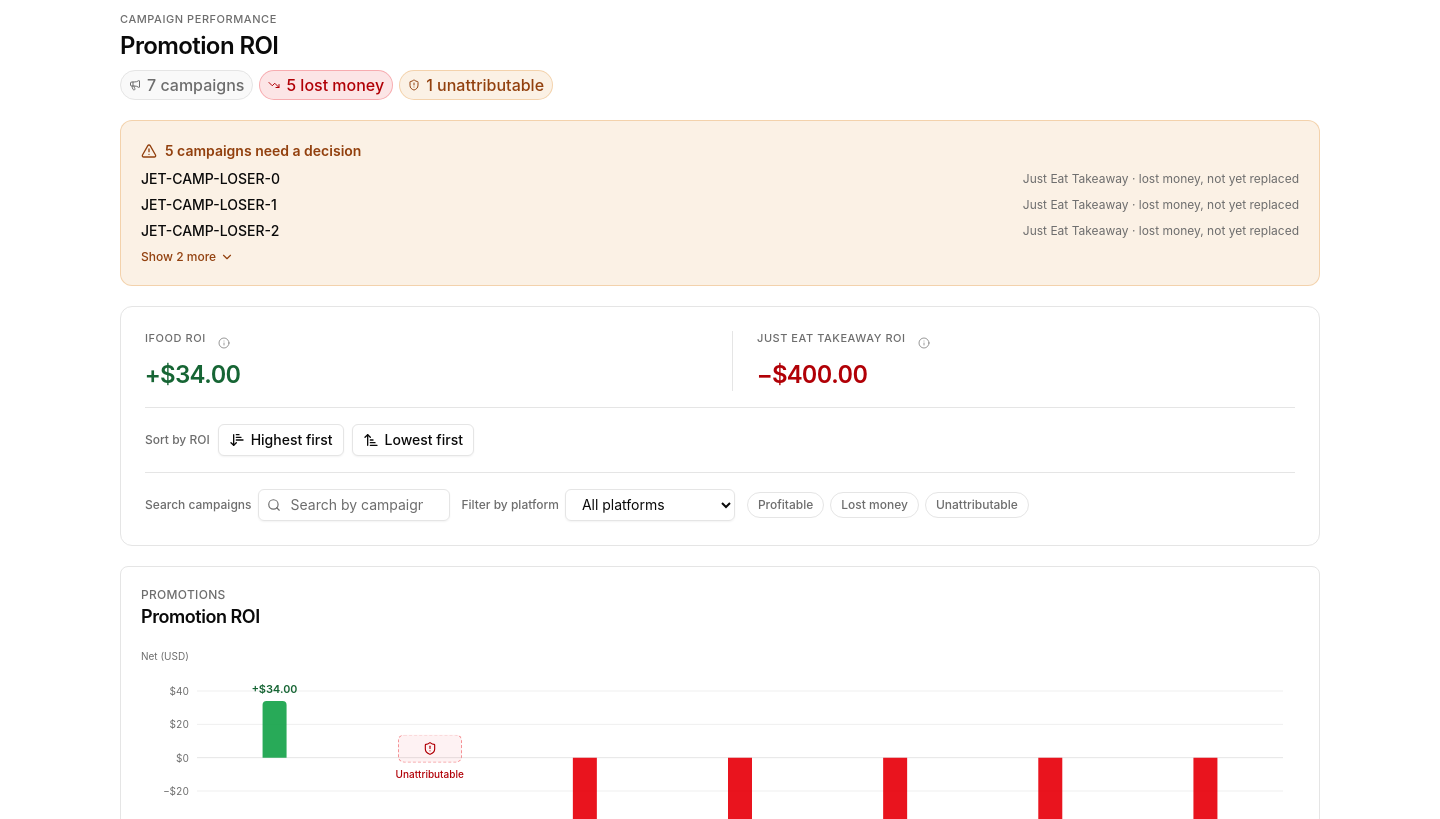
it: PromotionsPage › collapses a large needs-action list to 3 rows with a "Show N more" toggle, never one row per campaign unconditionally
Expected: the text "5 campaigns need a decision" is shown, top-left (141, 142), bottom-right (361, 159)
Expected: the text "JET-CAMP-LOSER-0" is shown, top-left (141, 169), bottom-right (280, 189)
Click the button "Show 2 more". click: (188, 257)
box: top-left (141, 249), bottom-right (234, 265)
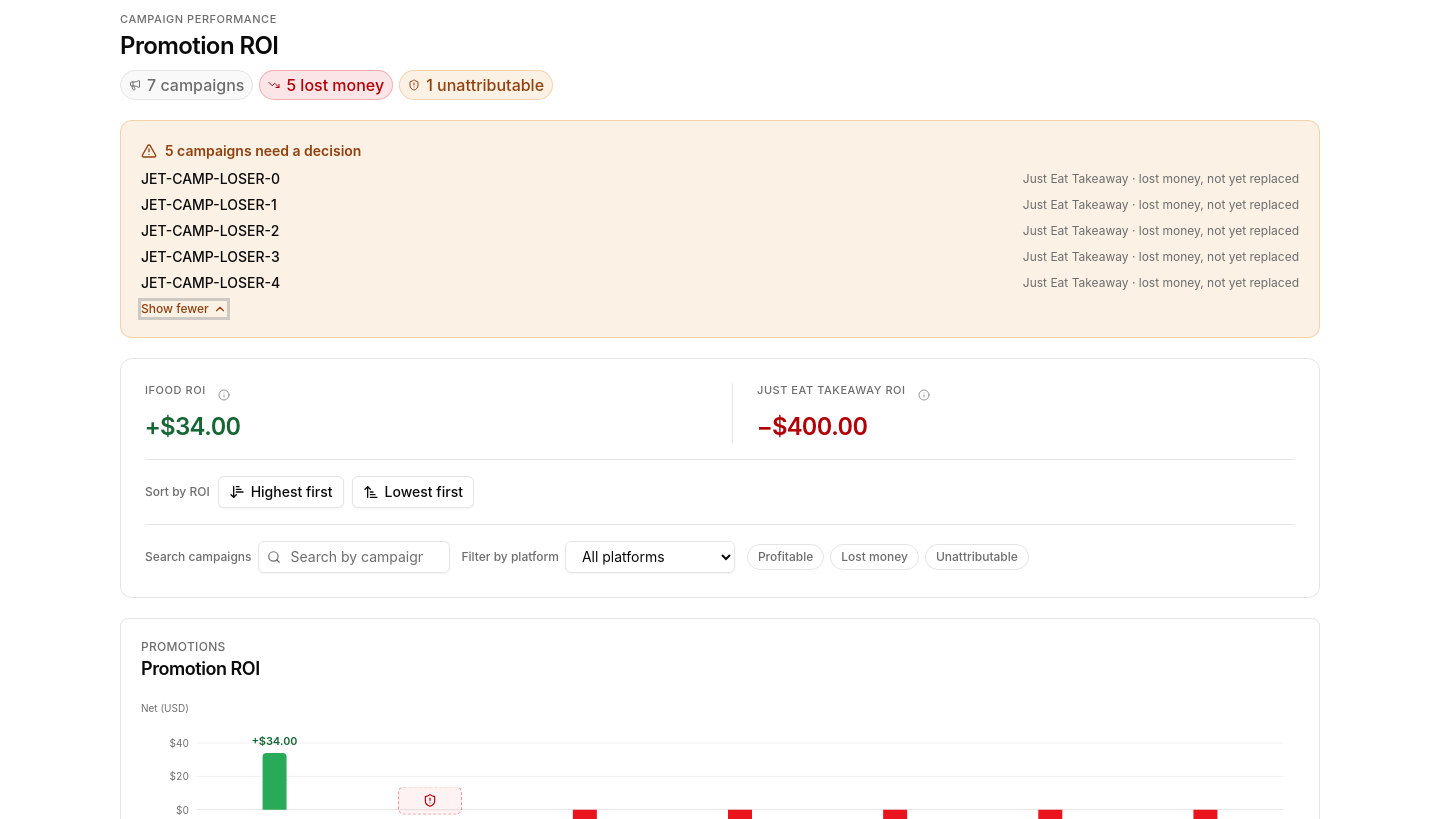
Expected: the text "JET-CAMP-LOSER-3" is shown, top-left (141, 247), bottom-right (280, 267)
Expected: the text "JET-CAMP-LOSER-4" is shown, top-left (141, 273), bottom-right (280, 293)
Expected: the button "Show fewer" is expanded, top-left (141, 301), bottom-right (227, 317)
